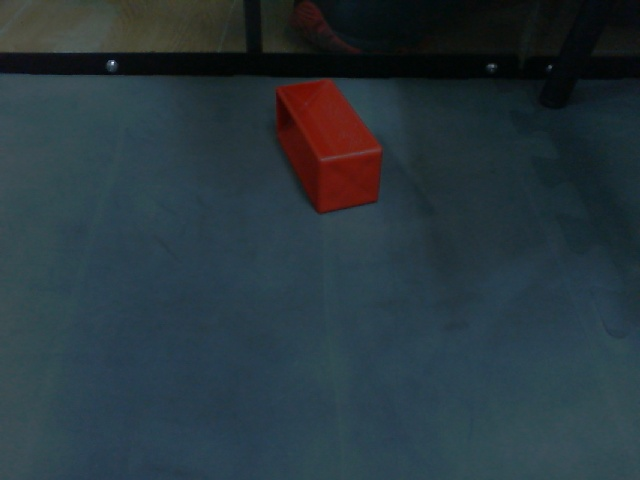RedSample: (271, 77, 385, 218)
